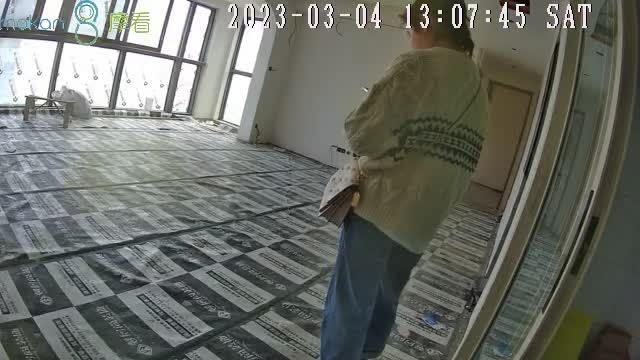people: (319, 1, 488, 360)
window: (1, 1, 262, 127)
